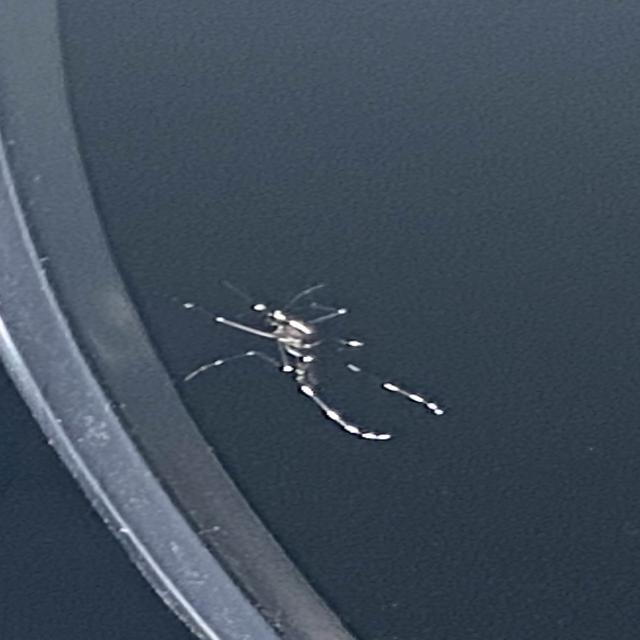albopictus: (162, 271, 448, 444)
